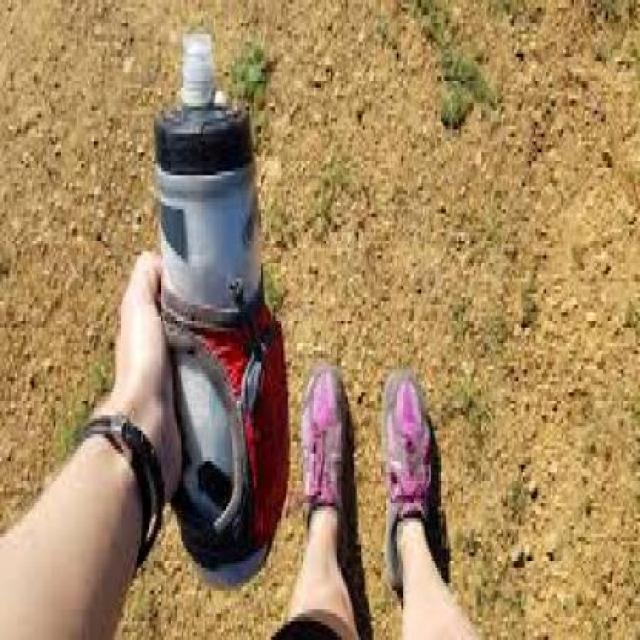Drinking: (126, 23, 300, 591)
